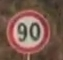limite 90: (4, 8, 54, 54)
